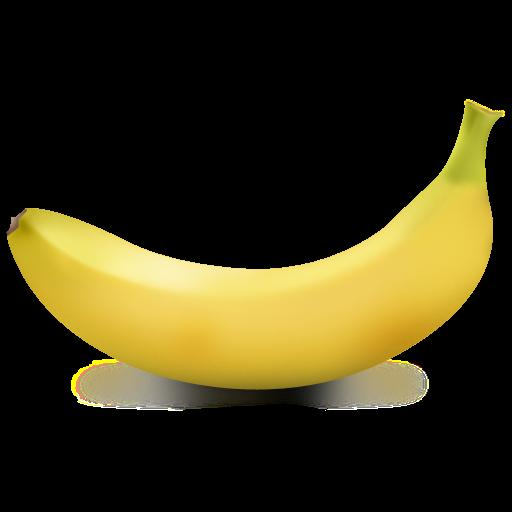Banana Fresh: (3, 168, 512, 387)
